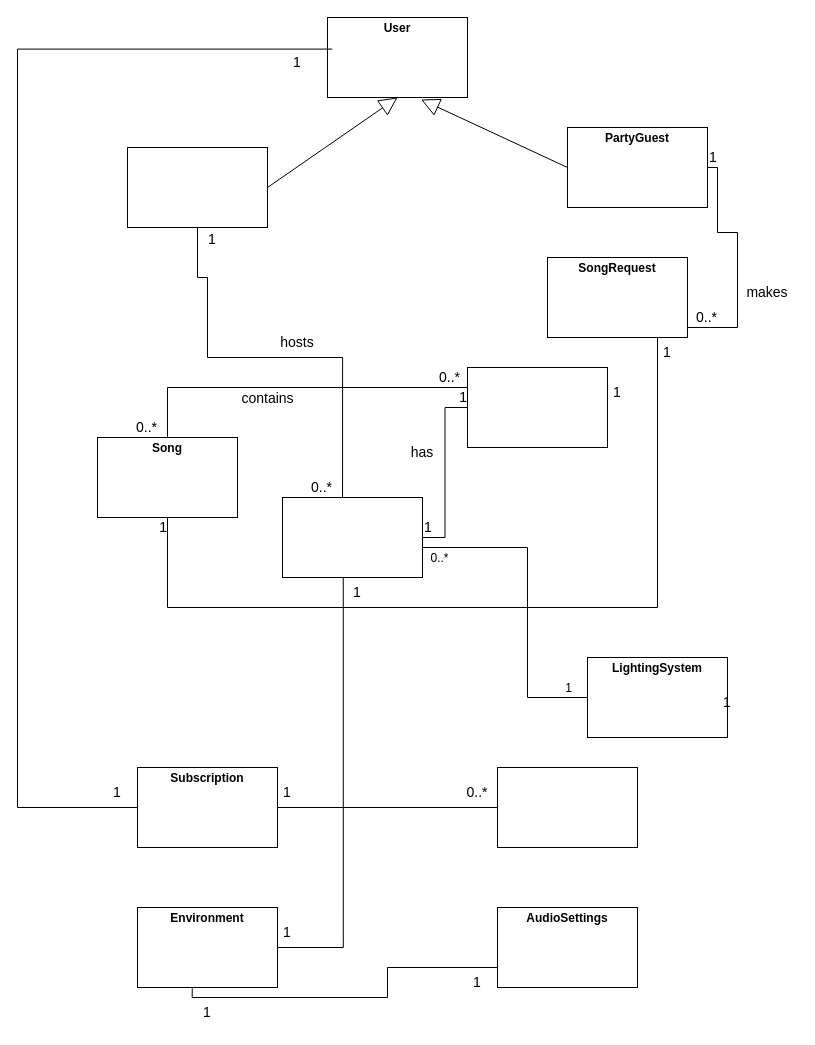
Some shapes in this 815 by 1045 pixel diagram are drawn without their labels. The box of each missing label's shape, as (x1, y1, x2, y2) in pixels:
Party: (282, 496, 422, 578)
PartyHost: (126, 146, 268, 228)
Payment: (496, 766, 638, 848)
Playlist: (466, 366, 608, 448)
